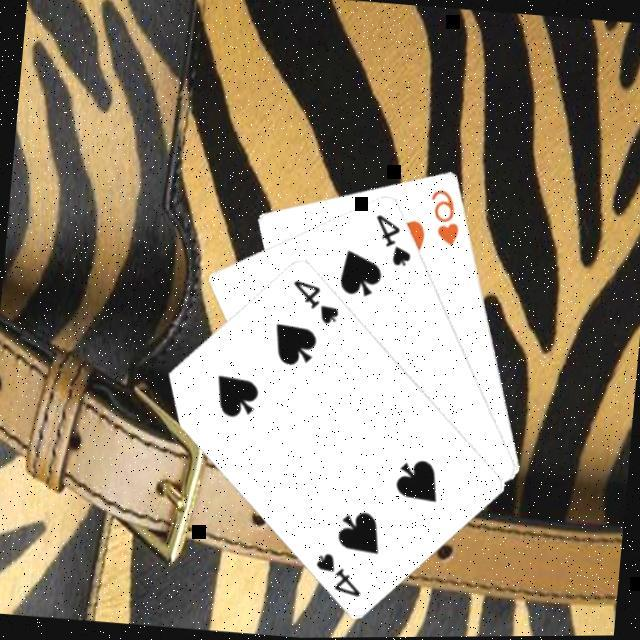4S: (286, 273, 344, 326), (308, 545, 366, 598), (368, 208, 417, 268)
6H: (423, 182, 465, 248)
